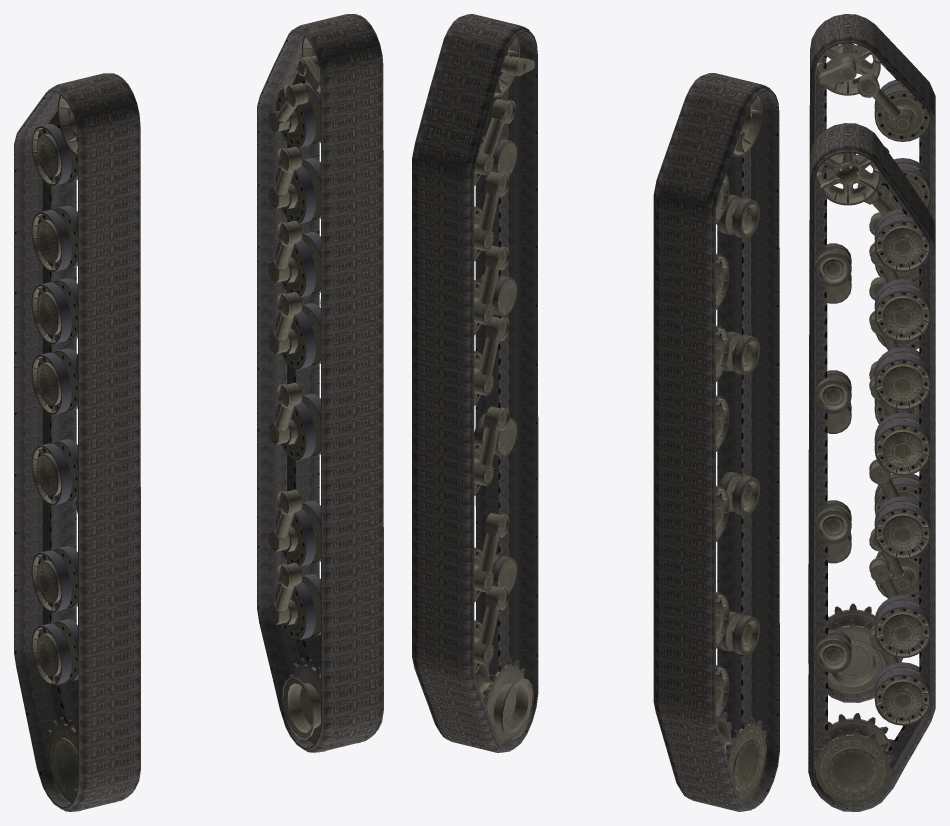
The model's file is Chassis.glb.
3 renders of one model, left to right at view 1: azimuth 30°, elevation 25°; view 2: azimuth 150°, elevation 25°; view 3: azimuth 270°, elevation 25°, orthographic. The views are drawn at different scales.
Parts seen in each view (by area): view 1: set_3_group_0, set_2_group_0, set_0_group_0, set_1_group_0; view 2: set_3_group_0, set_2_group_0, set_0_group_0, set_1_group_0; view 3: set_0_group_0, set_2_group_0, set_1_group_0, set_3_group_0.
Boxes of the visible parts, x1,y1,x2,y2 form: set_3_group_0: [14, 73, 140, 811]; set_2_group_0: [257, 14, 383, 752]; set_0_group_0: [268, 36, 372, 751]; set_1_group_0: [31, 94, 129, 810]; set_3_group_0: [653, 73, 779, 811]; set_2_group_0: [412, 14, 538, 752]; set_0_group_0: [446, 36, 535, 744]; set_1_group_0: [691, 94, 766, 807]; set_0_group_0: [814, 152, 930, 803]; set_2_group_0: [808, 123, 935, 811]; set_1_group_0: [815, 43, 930, 694]; set_3_group_0: [808, 14, 935, 702].
Size of the model in its own units: 3.38 by 7.67 by 1.33.
4 materials, 4 textured.
